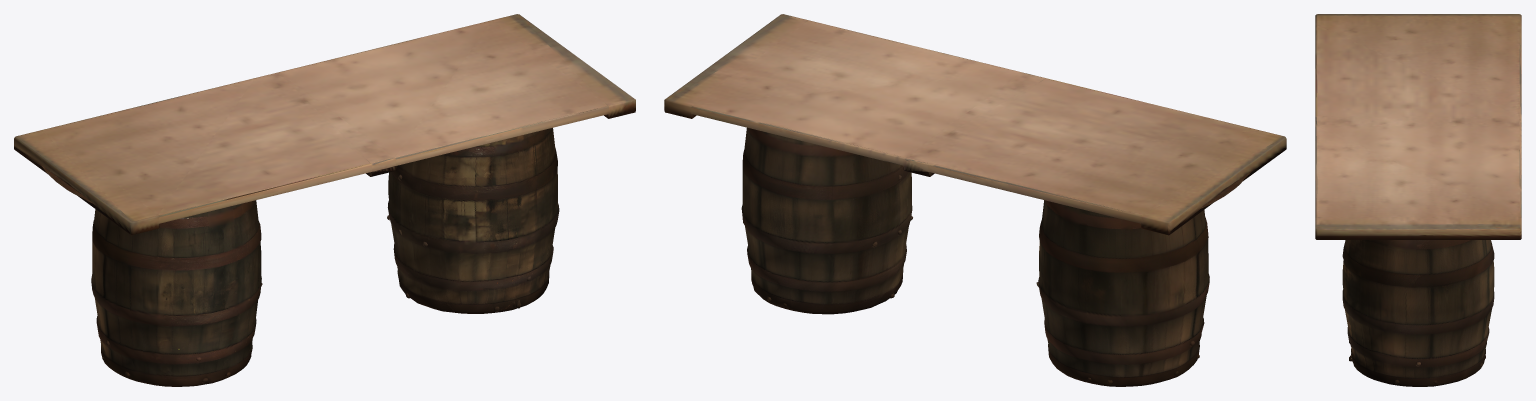
The model's file is 2_Barrel_Bar_42InchTall_0222185530_texture.glb.
The picture shows the model from 3 angles, left to right: view 1: azimuth 30°, elevation 25°; view 2: azimuth 150°, elevation 25°; view 3: azimuth 270°, elevation 25°; orthographic projection. The views are drawn at different scales.
Parts seen in each view (by area): view 1: Mesh_0; view 2: Mesh_0; view 3: Mesh_0.
Part boxes in pixels (x1,y1,x2,y2): Mesh_0: (14,14,635,386); Mesh_0: (664,14,1286,386); Mesh_0: (1315,14,1521,386).
Size of the model in its own units: 2.84 by 1.07 by 1.14.
Materials: 1 (1 with a texture image).
